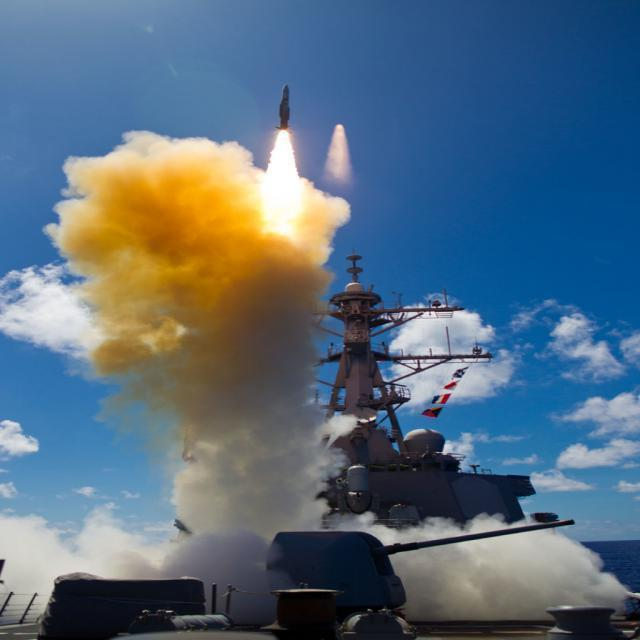missile: (270, 77, 300, 139)
